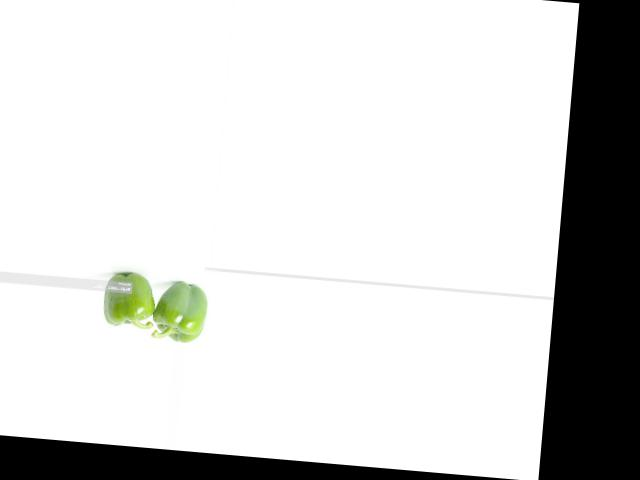bell_pepper: (151, 271, 209, 348)
